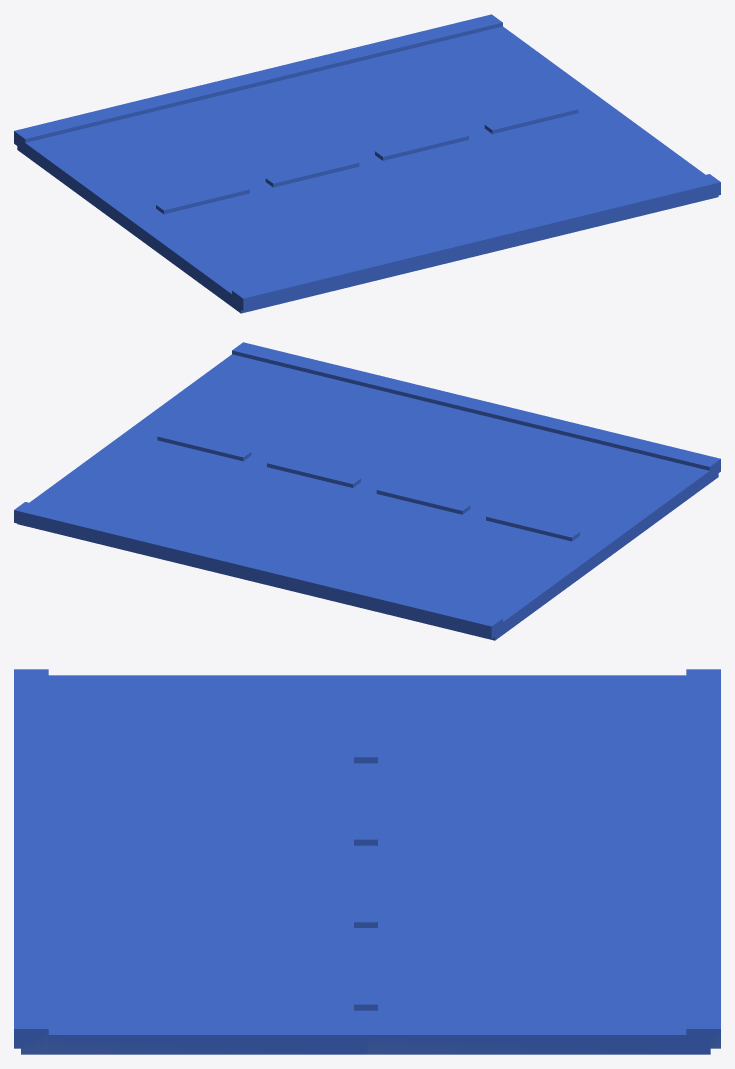
File: pista.fbx
The picture shows the model from 3 angles, top to bottom: view 1: azimuth 30°, elevation 25°; view 2: azimuth 150°, elevation 25°; view 3: azimuth 270°, elevation 25°; orthographic projection. The views are drawn at different scales.
Visible parts, largest first — view 1: Cube.041, Cube.044, Cube.047, Cube.046, Cube.051, Cube.049, Cube.052, Cube.050; view 2: Cube.044, Cube.041, Cube.046, Cube.047, Cube.051, Cube.049, Cube.050, Cube.052; view 3: Cube.044, Cube.041, Cube.047, Cube.046, Cube.052, Cube.051, Cube.050, Cube.049.
Boxes of the visible parts, x1=… form: Cube.041: x1=129, y1=103, x2=718, y2=313; Cube.044: x1=17, y1=26, x2=606, y2=231; Cube.047: x1=232, y1=174, x2=720, y2=311; Cube.046: x1=14, y1=14, x2=502, y2=149; Cube.051: x1=265, y1=157, x2=359, y2=187; Cube.049: x1=484, y1=103, x2=578, y2=133; Cube.052: x1=156, y1=184, x2=249, y2=214; Cube.050: x1=375, y1=130, x2=468, y2=160; Cube.044: x1=17, y1=429, x2=607, y2=640; Cube.041: x1=130, y1=354, x2=718, y2=558; Cube.046: x1=14, y1=502, x2=502, y2=639; Cube.047: x1=232, y1=342, x2=720, y2=479; Cube.051: x1=376, y1=484, x2=470, y2=514; Cube.049: x1=157, y1=431, x2=251, y2=461; Cube.050: x1=267, y1=457, x2=360, y2=487; Cube.052: x1=486, y1=511, x2=579, y2=541; Cube.044: x1=364, y1=675, x2=710, y2=1054; Cube.041: x1=21, y1=675, x2=367, y2=1054; Cube.047: x1=14, y1=669, x2=48, y2=1048; Cube.046: x1=686, y1=669, x2=720, y2=1048; Cube.052: x1=354, y1=692, x2=377, y2=763; Cube.051: x1=354, y1=775, x2=377, y2=845; Cube.050: x1=354, y1=857, x2=377, y2=927; Cube.049: x1=354, y1=940, x2=377, y2=1010.
Bounding box in the file's own units: 7.85 × 0.2601 × 6.53.
